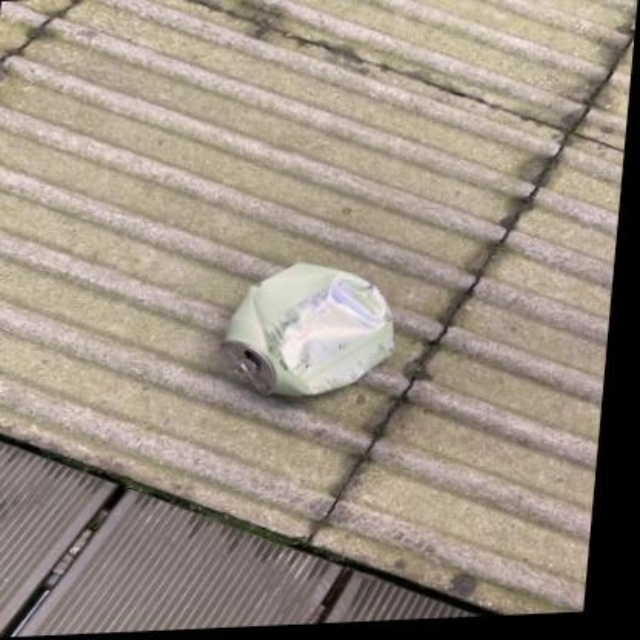trash: (222, 263, 392, 394)
